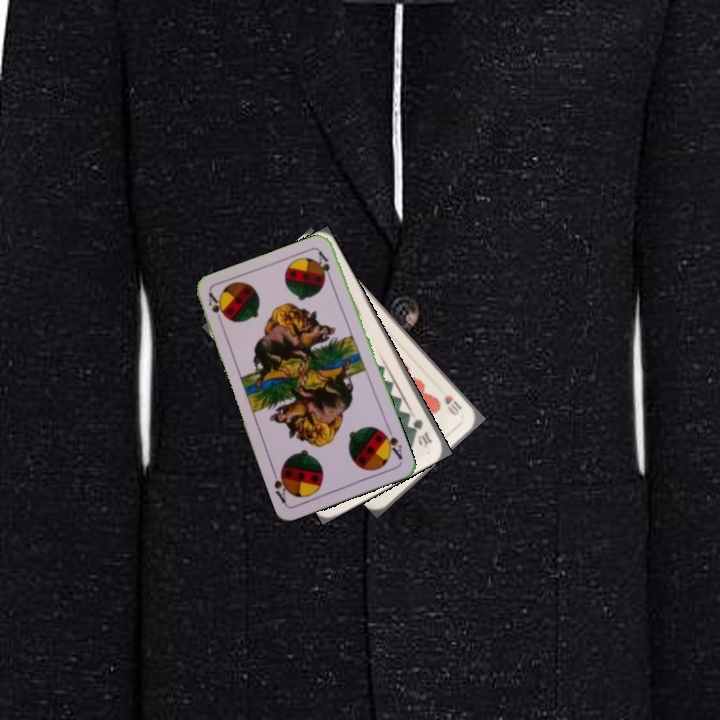G10: (409, 414, 435, 449)
H10: (440, 391, 464, 418)
SA: (378, 424, 405, 462), (204, 289, 228, 328)
